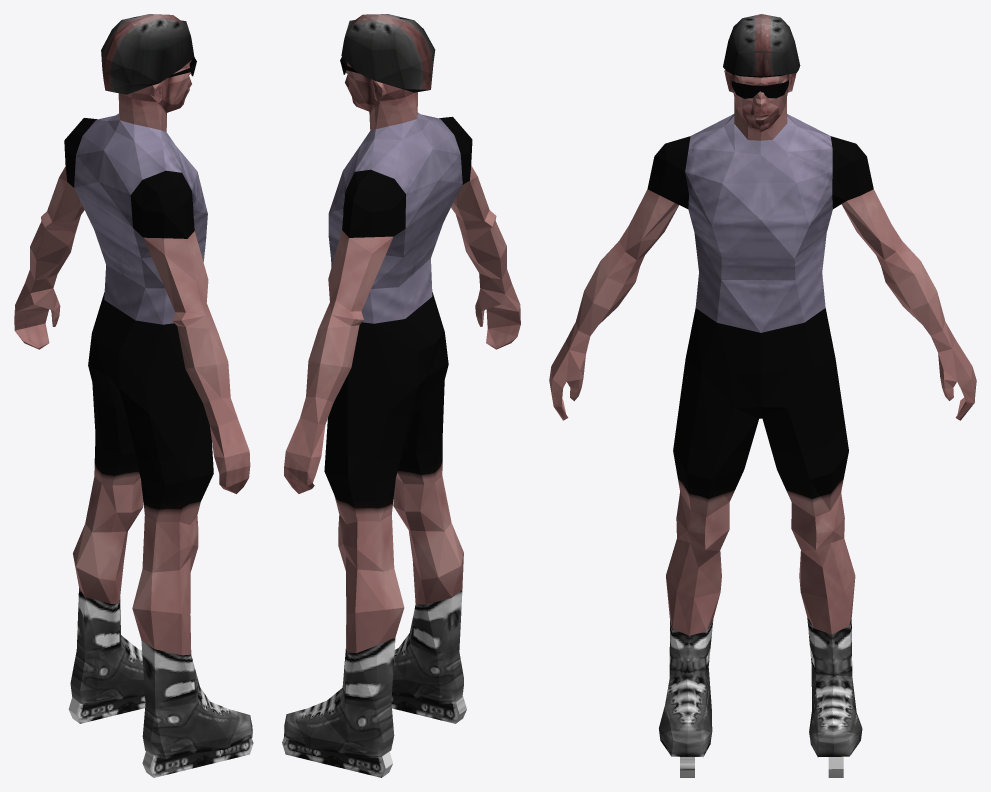
File: wmyro.obj
3 views of the same model, side by side, from view 1: azimuth 30°, elevation 25°; view 2: azimuth 150°, elevation 25°; view 3: azimuth 270°, elevation 25° (orthographic).
Parts seen in each view (by area): view 1: _Pelvis; view 2: _Pelvis; view 3: _Pelvis.
Part boxes in pixels (x1=…): _Pelvis: x1=14, y1=14, x2=253, y2=777; _Pelvis: x1=282, y1=14, x2=520, y2=777; _Pelvis: x1=549, y1=14, x2=976, y2=777.
Size of the model in its own units: 0.3277 by 1.93 by 1.02.
1 material, 1 textured.
